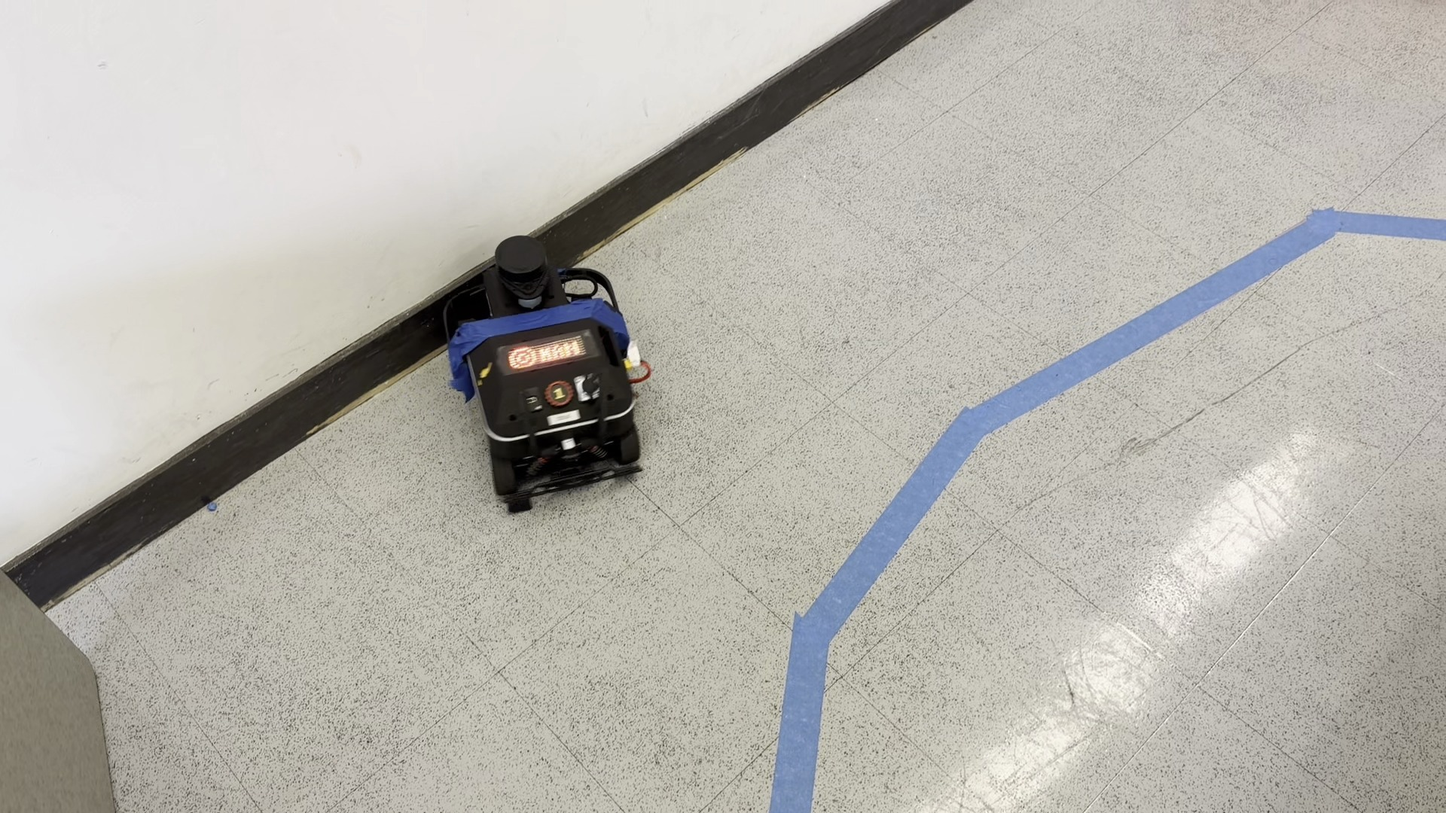racecar: (444, 237, 648, 510)
